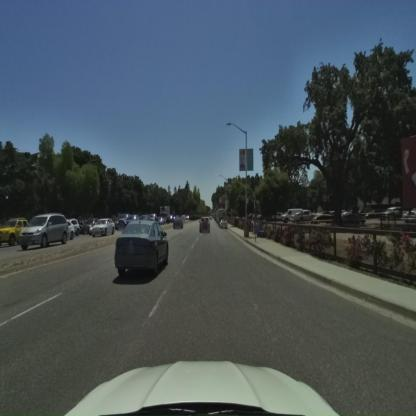car: (115, 220, 170, 280), (19, 214, 74, 251), (0, 216, 29, 247), (89, 218, 116, 237), (282, 208, 314, 223), (342, 212, 368, 226), (68, 220, 82, 238), (156, 215, 166, 225), (220, 219, 228, 228)
